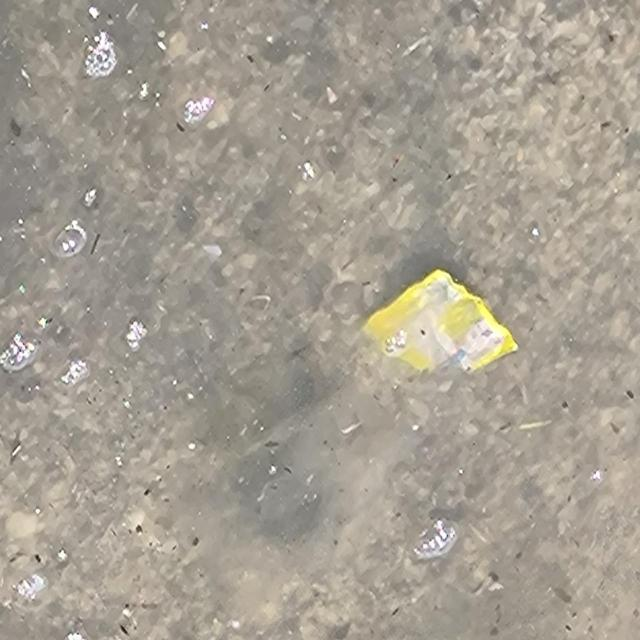plastic_waste: (368, 268, 522, 375)
